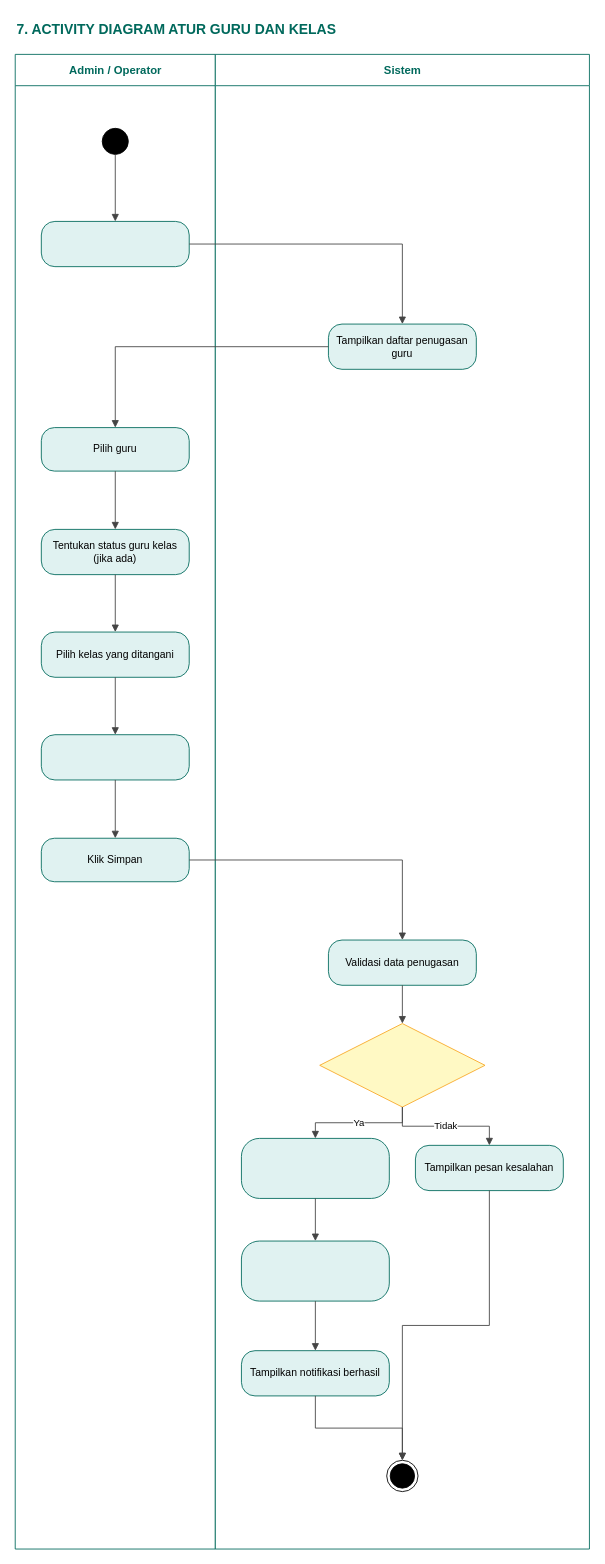
Image size: 605x1564. Some labels were removed from this diagram. The shapes that lost their labels are listed below. From the top down, each one's centre as x and y in pixels, then its label:
(114,244): Pilih menu Pengaturan Guru dan Kelas
(114,757): Pilih mata pelajaran yang diampu
(402,1065): Data lengkap dan valid?
(315,1168): Simpan hubungan guru, kelas, dan mata pelajaran
(315,1270): Terapkan sebagai dasar pembatasan hak akses guru
